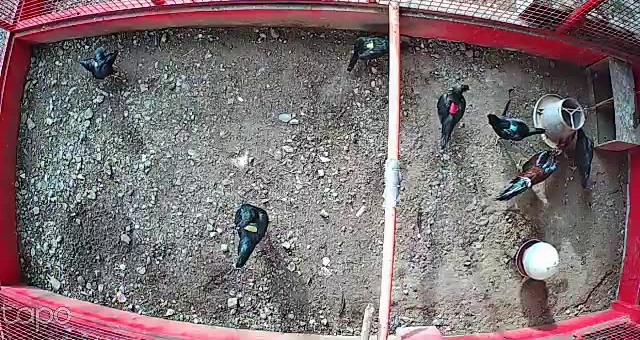Chicken: (231, 201, 271, 274), (434, 82, 473, 149), (484, 110, 549, 148), (564, 122, 598, 189), (77, 43, 127, 85), (345, 33, 390, 73)
Rooster: (492, 143, 564, 203)
Saddle_Color_Blue: (510, 124, 519, 131)
Saddle_Color_Red: (448, 102, 460, 113)
Saddle_Color_Yellow: (367, 38, 374, 50)
Saddle_Color_YellowGreen: (243, 219, 260, 233)
